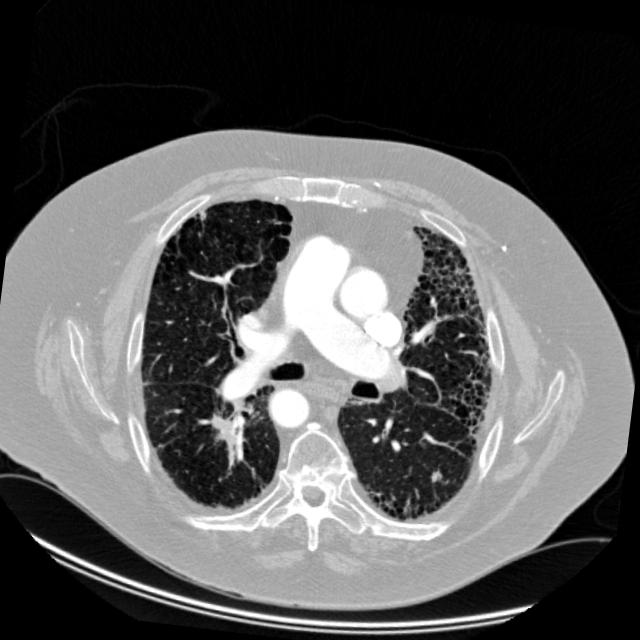nodule: (426, 463, 450, 488)
